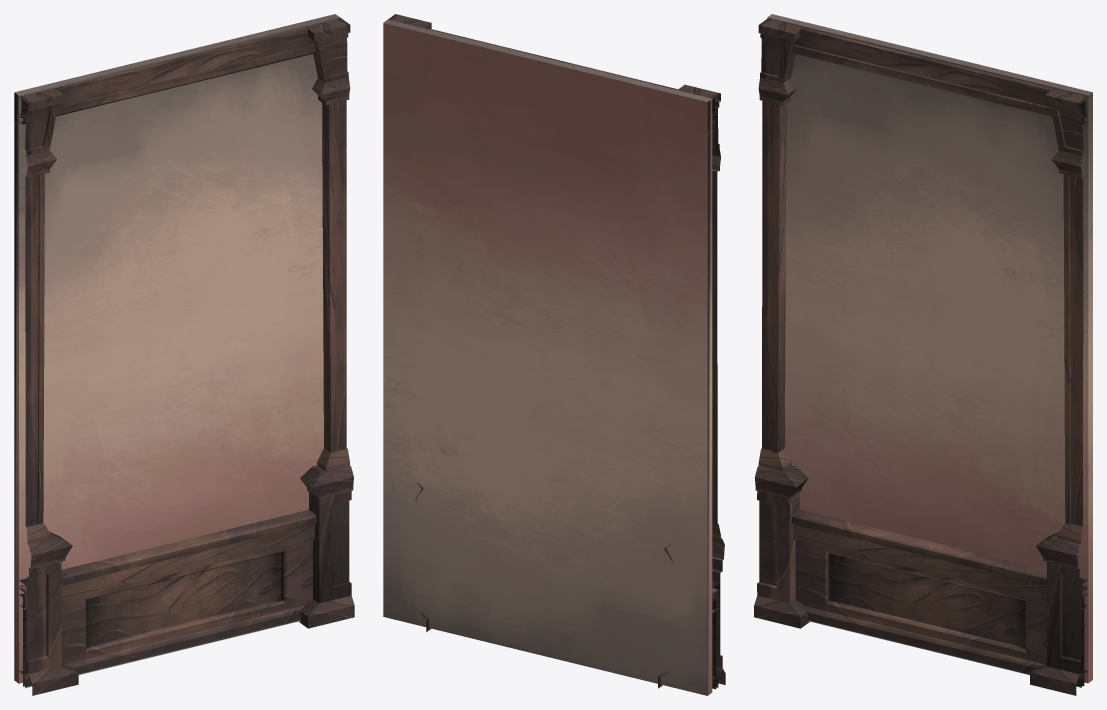
The model's file is Mesh_Wall_Straight.fbx.
The picture shows the model from 3 angles, left to right: view 1: azimuth 30°, elevation 25°; view 2: azimuth 150°, elevation 25°; view 3: azimuth 330°, elevation 25°; orthographic projection.
Visible parts, largest first — view 1: Straight_Wall; view 2: Straight_Wall; view 3: Straight_Wall.
Boxes of the visible parts, x1,y1,x2,y2 form: Straight_Wall: (14, 14, 354, 695); Straight_Wall: (383, 14, 725, 695); Straight_Wall: (754, 14, 1092, 695).
Bounding box in the file's own units: 0.6031 × 1.05 × 0.0662.
